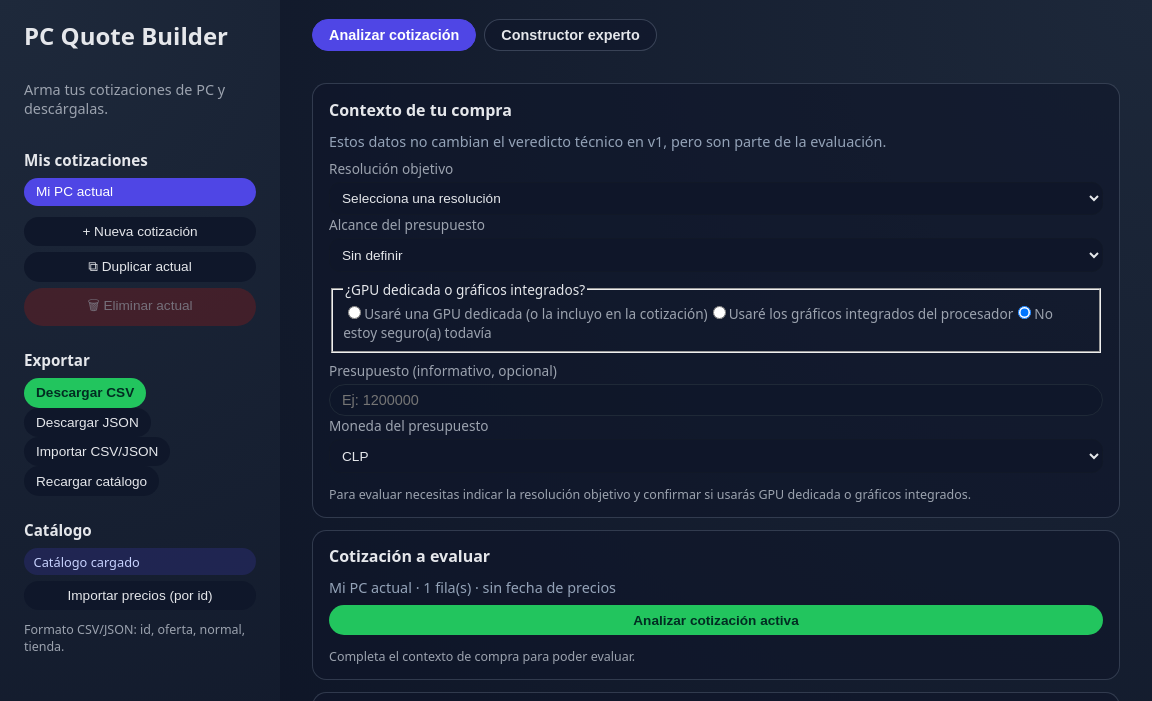
Scenario: Builder assessment and compatibility display › shows compatibility issues panel when issues exist
The image size is (1152, 701).
Click the button "Constructor experto" at (571, 35), box x1=484 y1=19 x2=657 y2=51
(page scrolled)
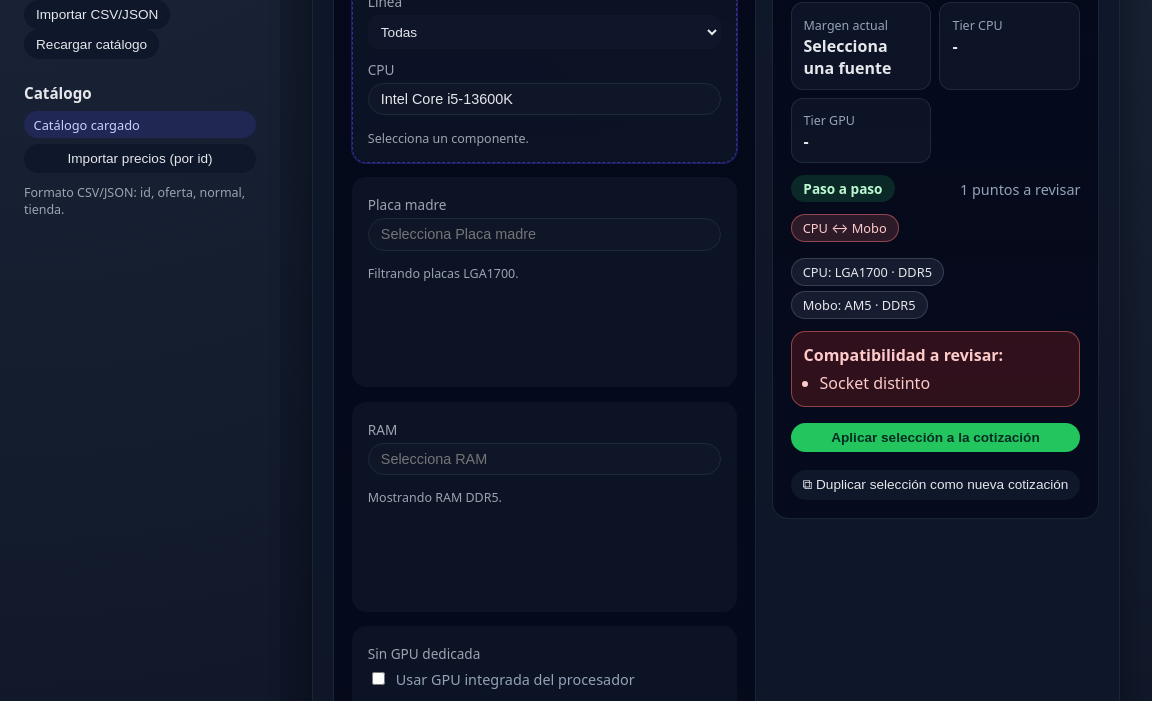
Now the text "Compatibilidad a revisar:" is shown, box x1=804 y1=344 x2=1003 y2=366
